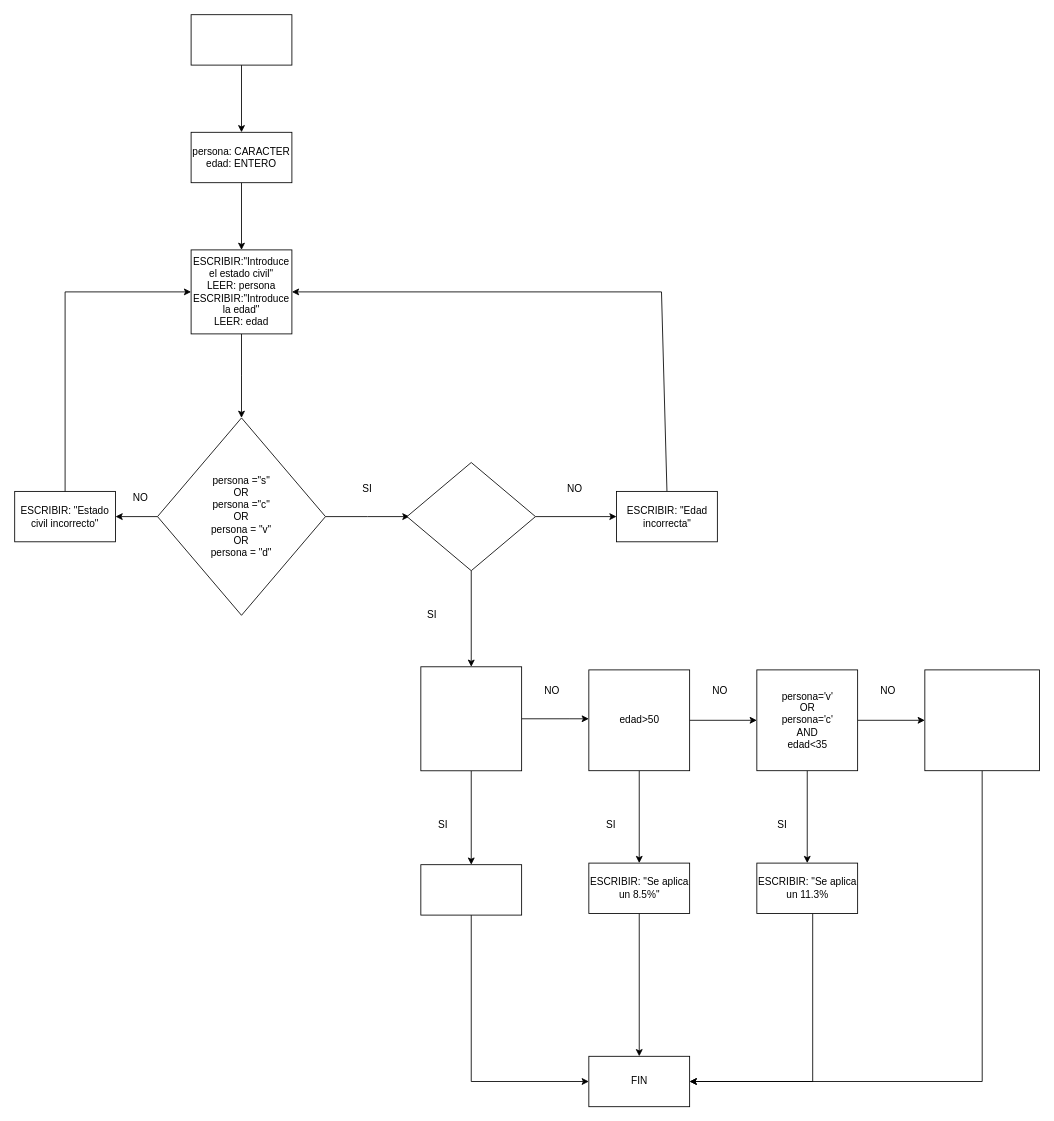
Some shapes in this 1054 by 1121 pixel diagram are drawn without their labels. The centre of each missing label's shape, as x and y in pixels:
edad<0 OR edad>100: point (471, 516)
ESCRIBIR: "Se aplica el 10.5%": point (982, 720)
ESCRIBIR: "Se aplica el 12%": point (471, 889)
INICIO: point (241, 39)
persona='s' OR persona='d' AND edad<35: point (471, 718)
